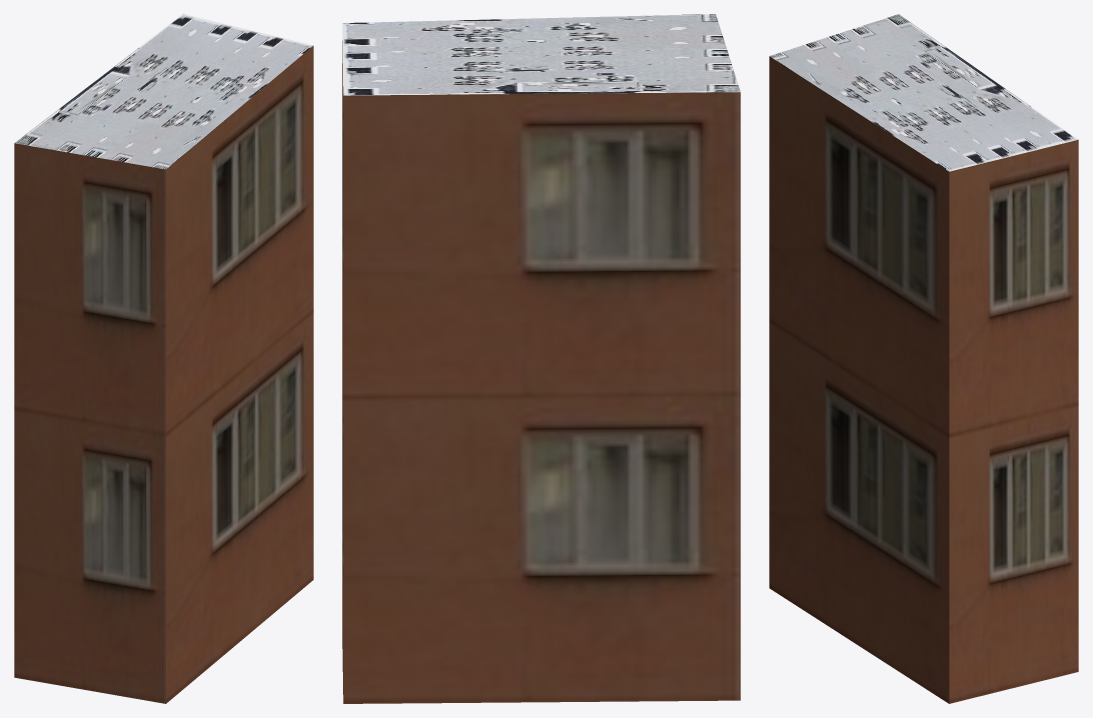
File: ResTex__1508.fbx
The picture shows the model from 3 angles, left to right: view 1: azimuth 30°, elevation 25°; view 2: azimuth 150°, elevation 25°; view 3: azimuth 270°, elevation 25°; orthographic projection. The views are drawn at different scales.
Parts seen in each view (by area): view 1: CityEngineMaterial_20_m, CityEngineMaterial_m; view 2: CityEngineMaterial_20_m, CityEngineMaterial_m; view 3: CityEngineMaterial_20_m, CityEngineMaterial_m.
Part boxes in pixels (left/top/right/bottom): CityEngineMaterial_20_m: left=14, top=46, right=313, bottom=703; CityEngineMaterial_m: left=14, top=14, right=313, bottom=169; CityEngineMaterial_20_m: left=342, top=41, right=740, bottom=703; CityEngineMaterial_m: left=342, top=14, right=740, bottom=95; CityEngineMaterial_20_m: left=769, top=56, right=1078, bottom=703; CityEngineMaterial_m: left=769, top=14, right=1078, bottom=171.
Size of the model in its own units: 3.81 by 6 by 3.16.
2 materials, 2 textured.
